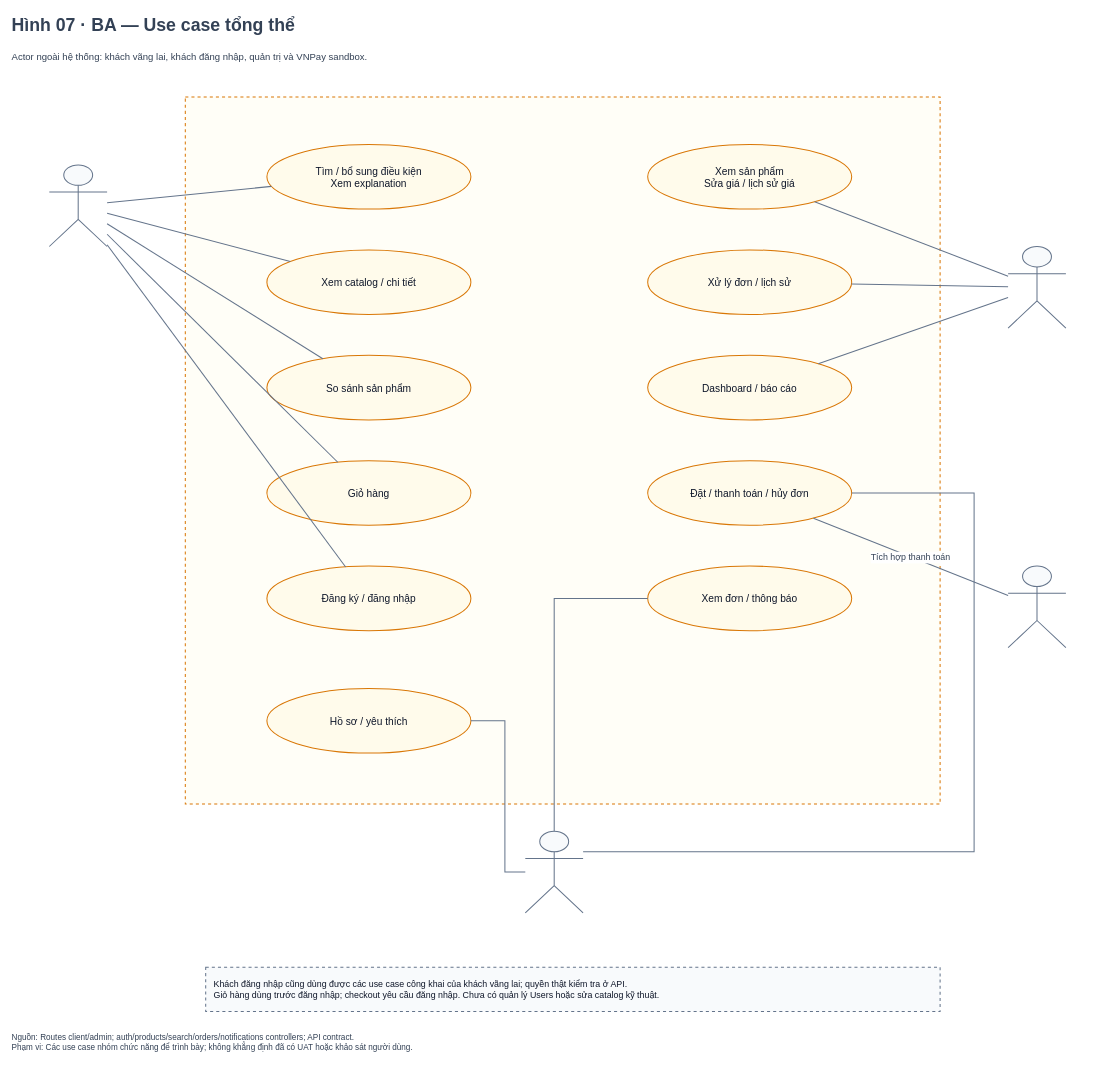
The diagram is 1118 pixels wide and 1082 high, and some of its shapes have lost their labels. Each missing label, with the box of its shape:
Khách vãng lai: (48, 164, 107, 247)
Khách đăng nhập: (524, 830, 583, 913)
Quản trị viên: (1007, 246, 1066, 328)
REECO AI SEARCH · Client + API + Admin: (184, 96, 940, 804)
VNPay sandbox: (1007, 565, 1066, 648)
